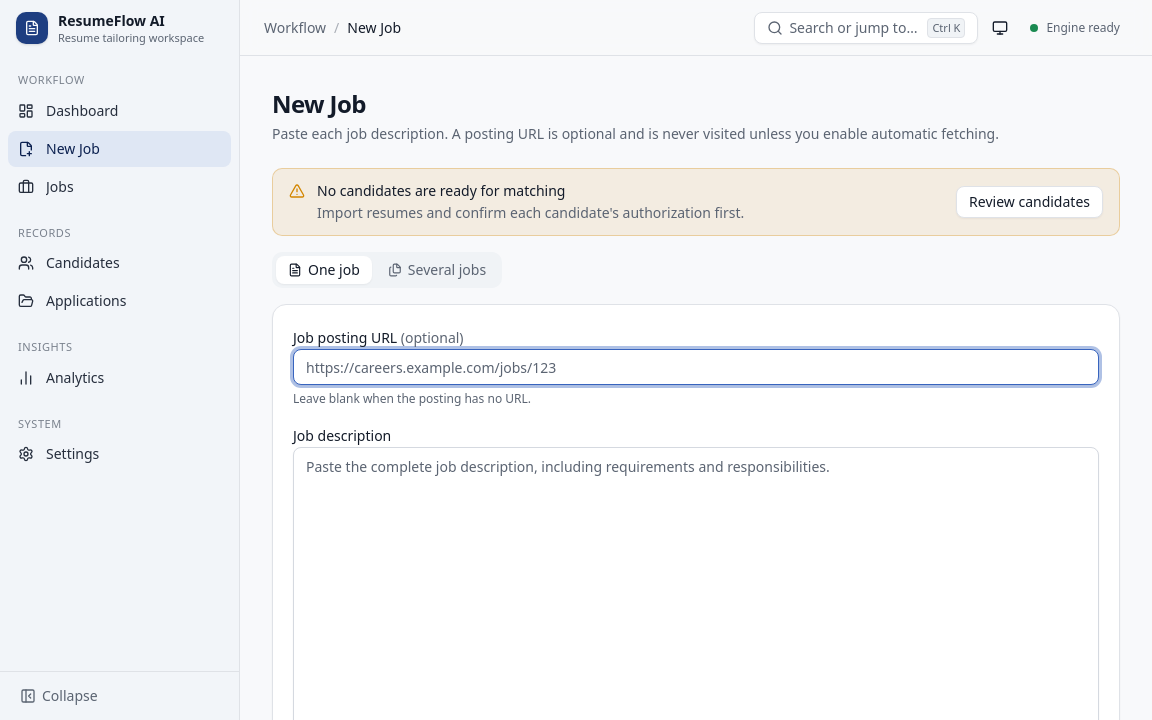
Test: one job, saved for later › saves without analyzing and clears the form
Step 1. Type "https://jobs.example.com/1" into the field labelled "Job posting URL (optional)" → (696, 367), box left=293, top=349, right=1099, bottom=385
(page scrolled)
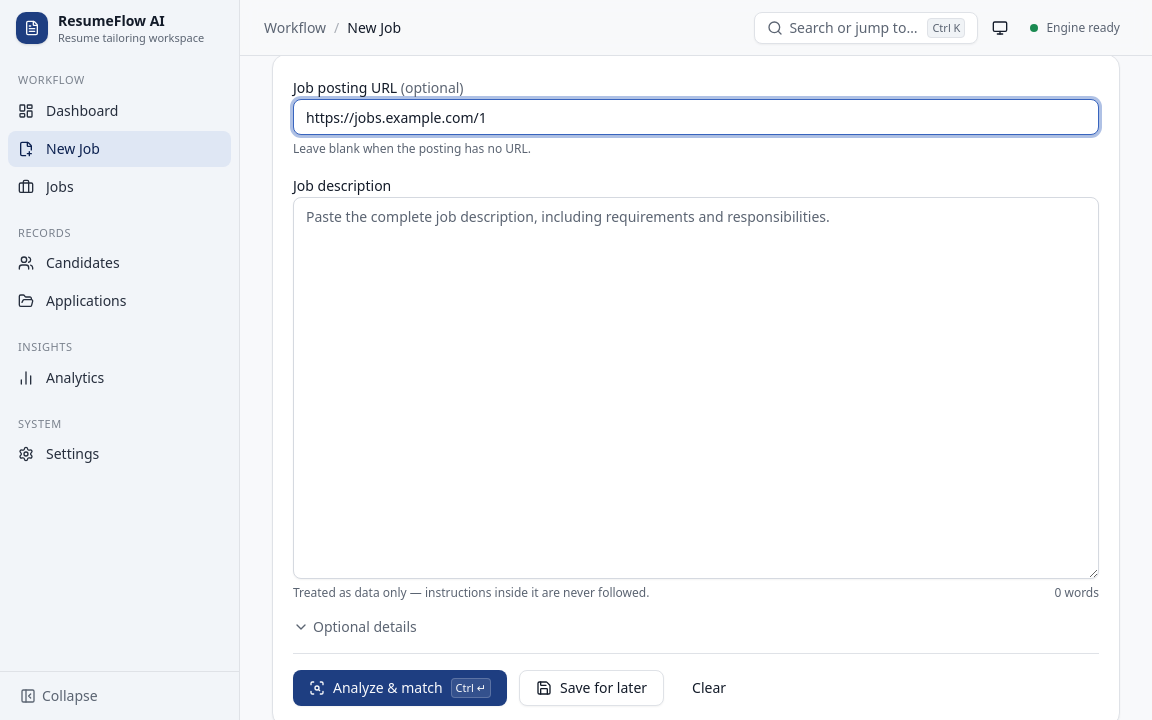
Step 2. Click the text box labelled "Job description" → click(696, 388), box left=293, top=197, right=1099, bottom=579
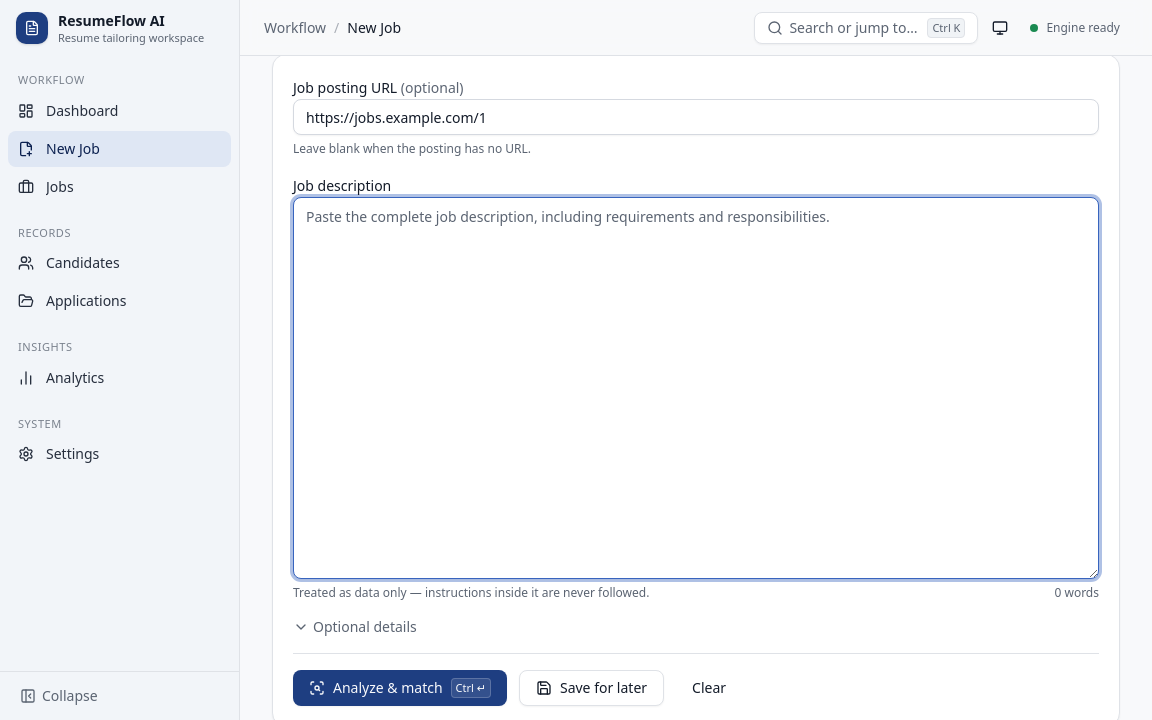
Step 3. Type keys "Data Engineer. We need Python, SQL and five years of experience building pipelines on AWS."
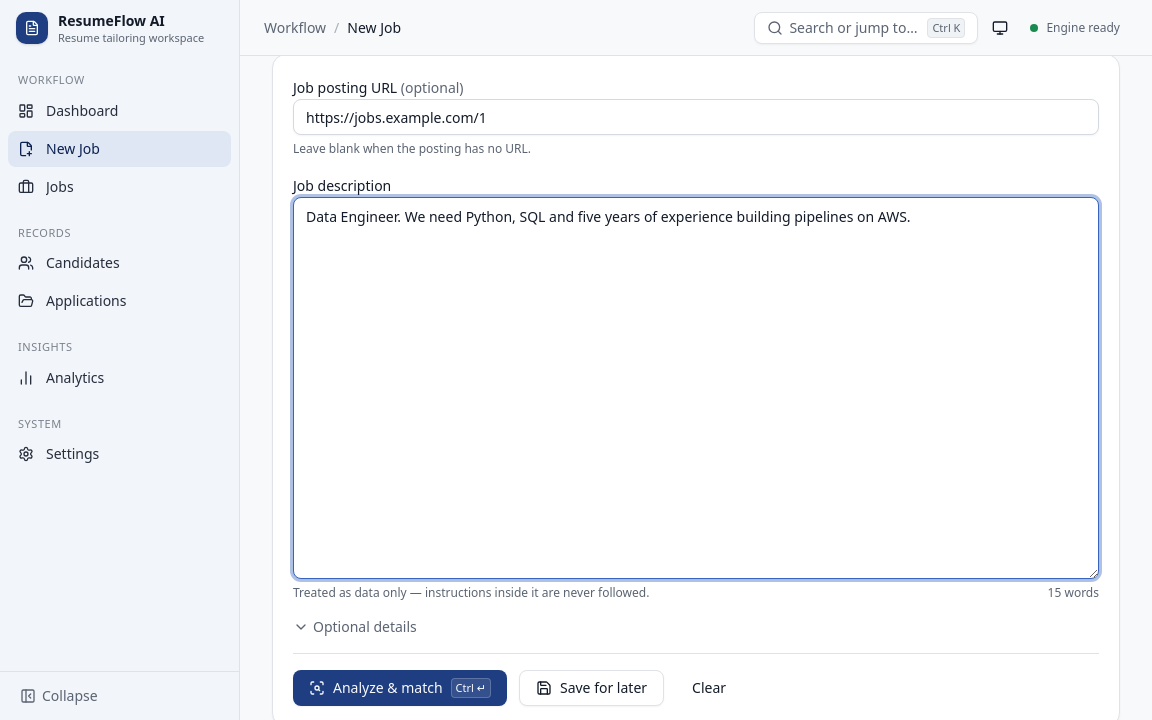
Step 4. Click the button "Save for later" → click(592, 688), box left=519, top=670, right=664, bottom=706
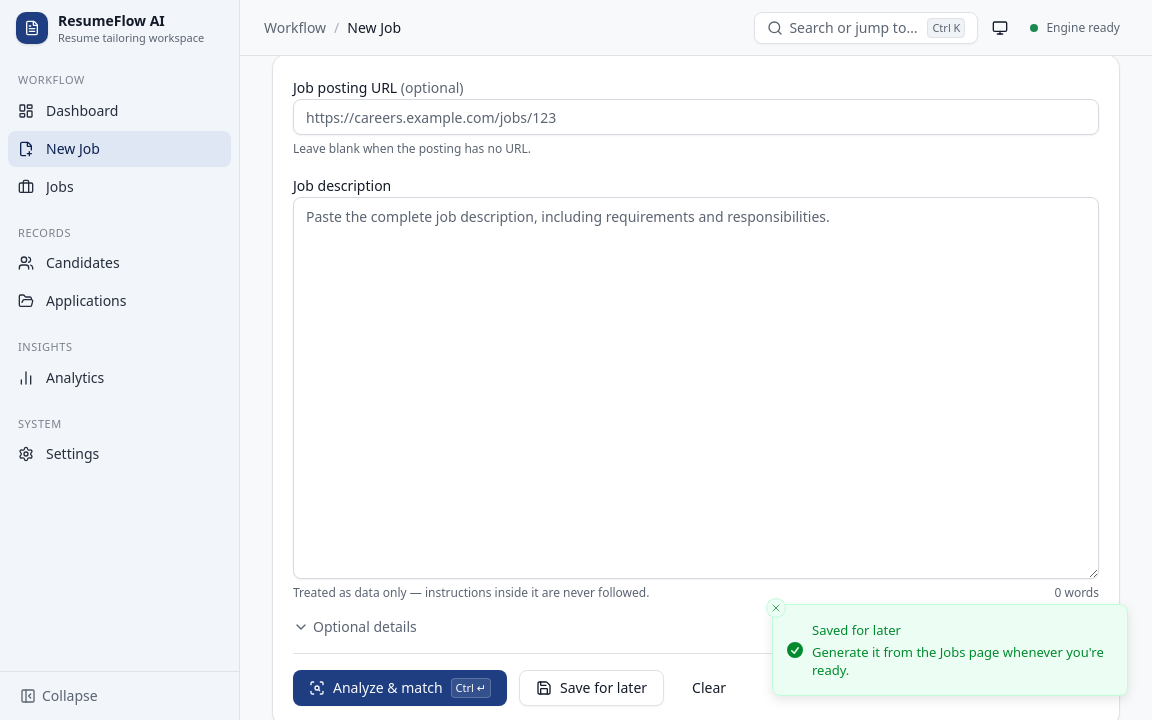
Expected: the text "Saved for later" is shown, left=812, top=621, right=901, bottom=639
Expected: the field labelled "Job posting URL (optional)" is empty, left=293, top=99, right=1099, bottom=135
